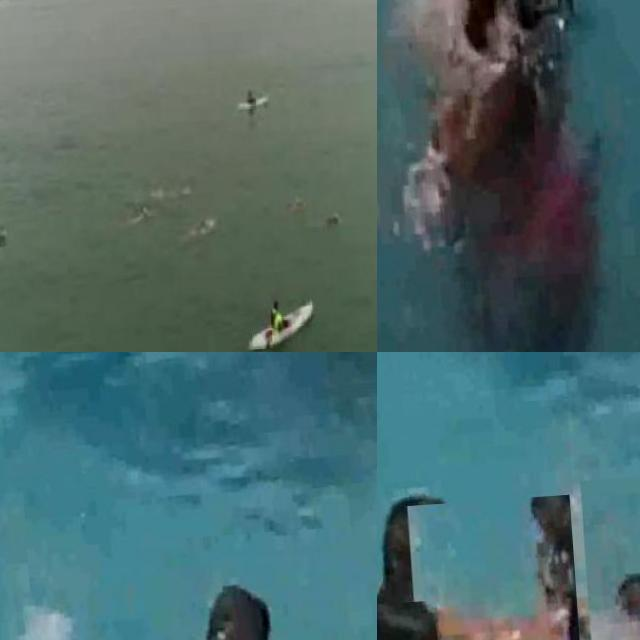drowning: (378, 0, 612, 305), (140, 536, 332, 640), (580, 466, 640, 640)
swimming: (408, 494, 583, 640), (322, 207, 346, 229), (0, 224, 9, 254)
